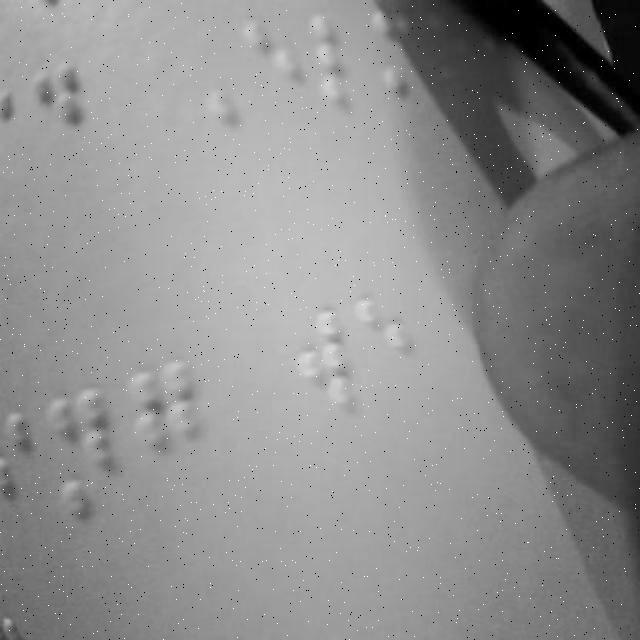D: (28, 51, 94, 178)
E: (358, 288, 426, 416), (244, 17, 302, 127)
G: (131, 360, 209, 494)
L: (311, 11, 374, 115)
N: (44, 373, 124, 523)
V: (290, 303, 360, 421)
